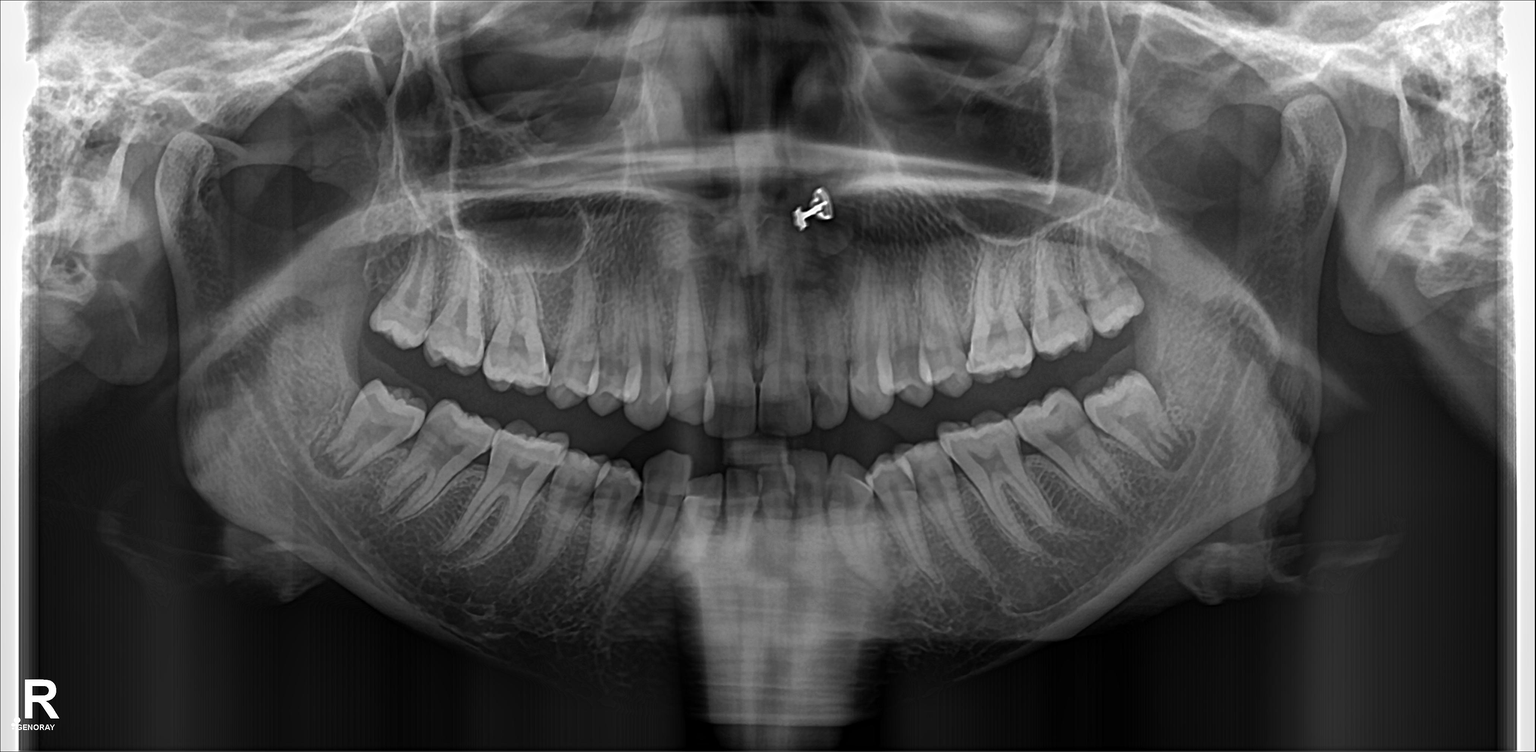Impacted Third Molar: (1104, 374, 1201, 462), (328, 383, 429, 459)
